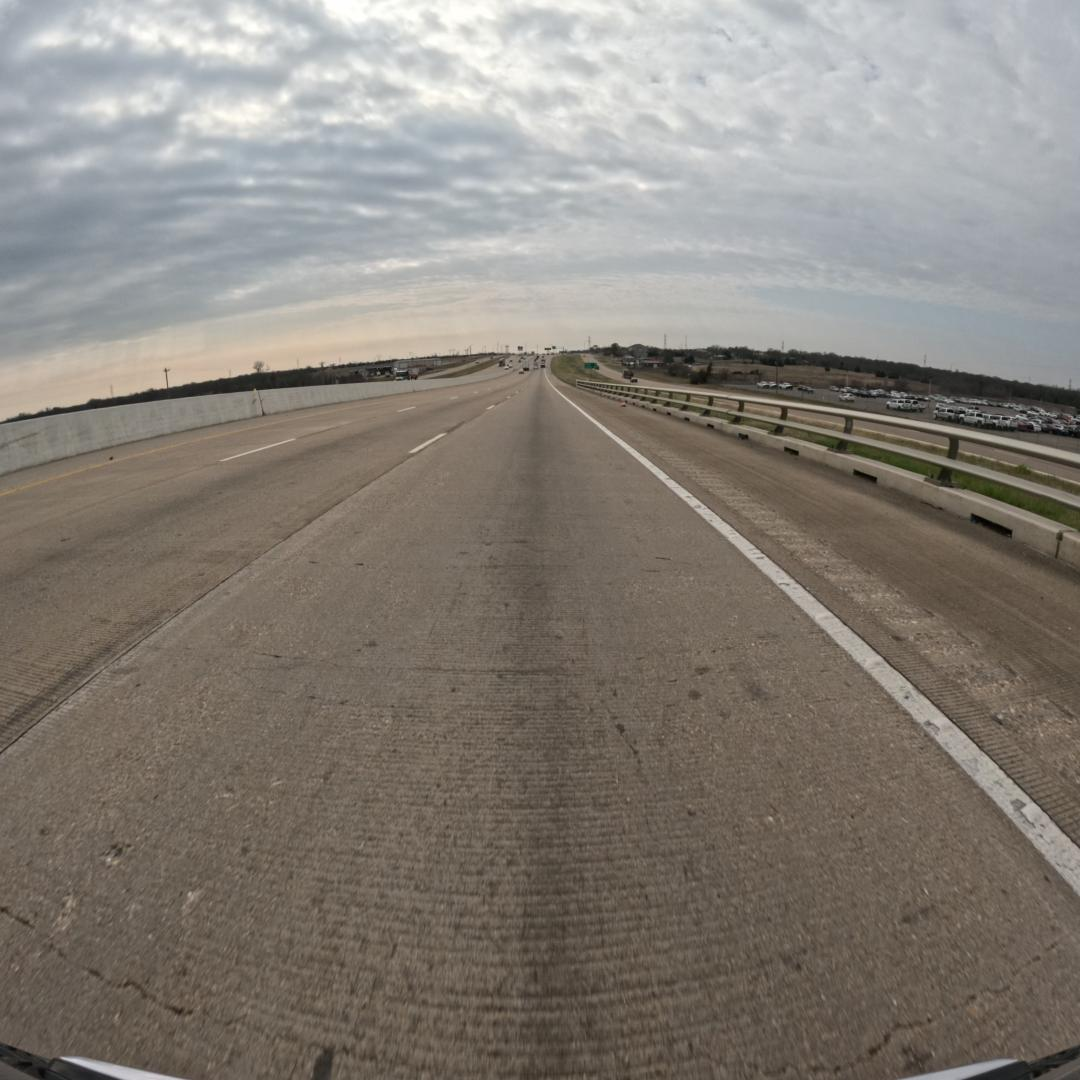lane0: (0, 373, 1080, 1077)
lane1: (0, 384, 521, 751)
